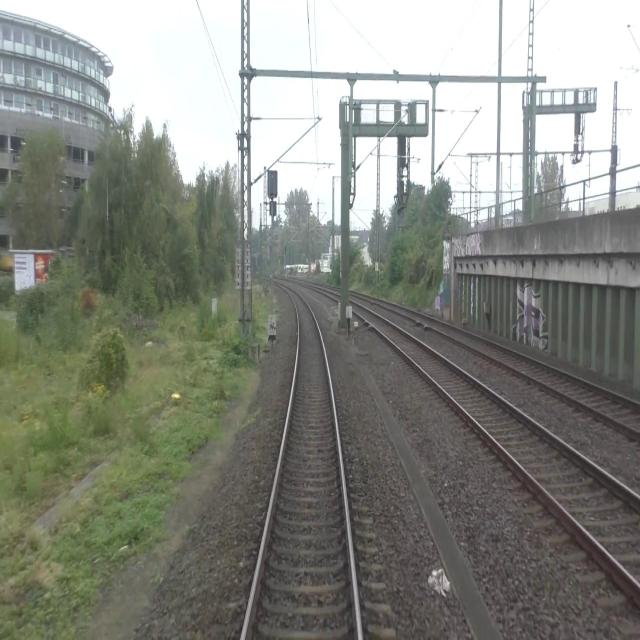rail-track: (349, 302, 640, 581), (244, 287, 357, 639), (373, 299, 640, 428)
